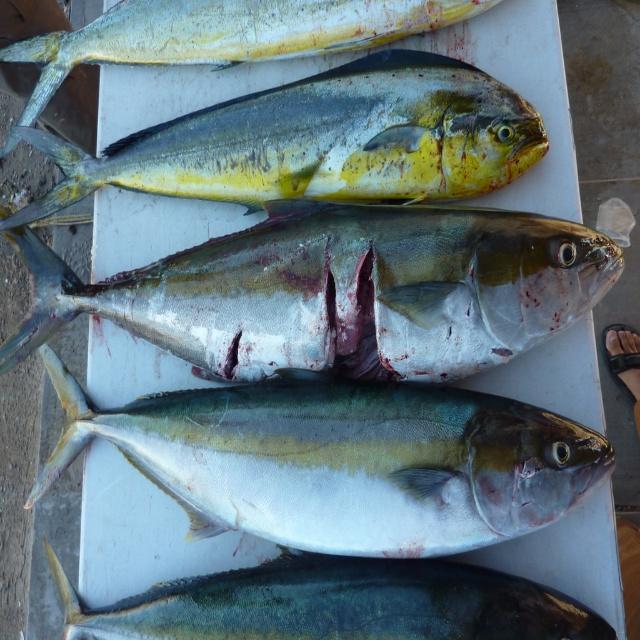Fish: (0, 0, 623, 640)
